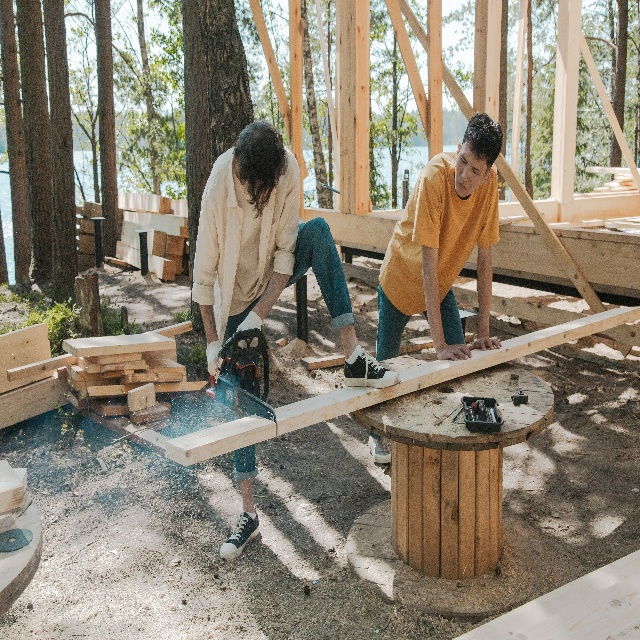Guantes: (236, 311, 263, 348), (207, 340, 223, 376)
Sin_guantes: (436, 342, 473, 360), (467, 335, 502, 351)
